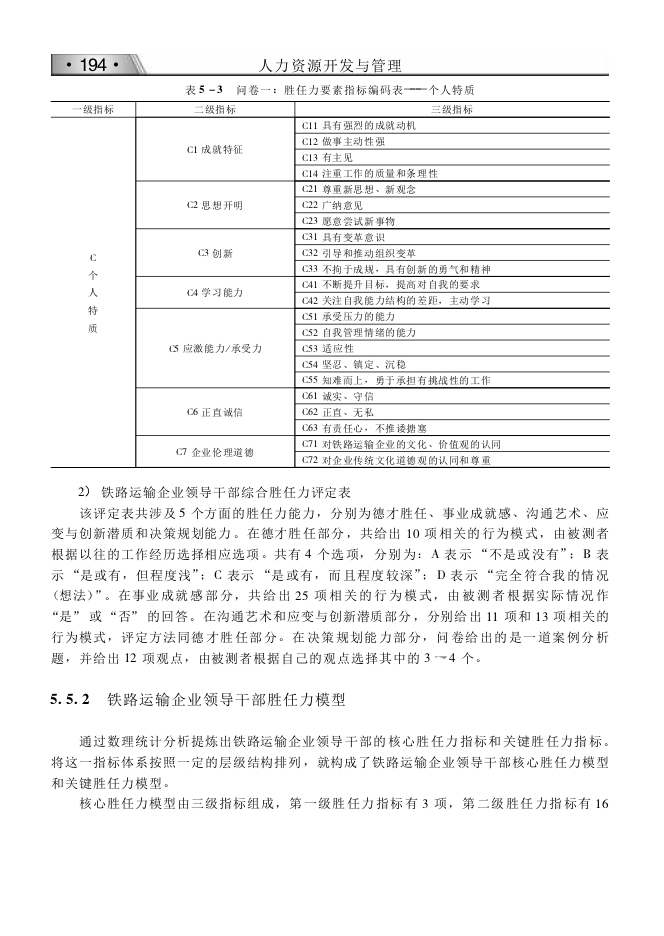table: (50, 101, 609, 468)
